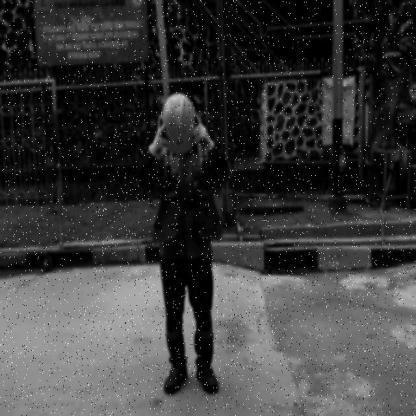boots: (195, 358, 223, 396), (163, 360, 190, 396)
gloves: (152, 176, 226, 246), (146, 122, 174, 160), (192, 113, 214, 157)
helmet: (159, 92, 196, 154)
